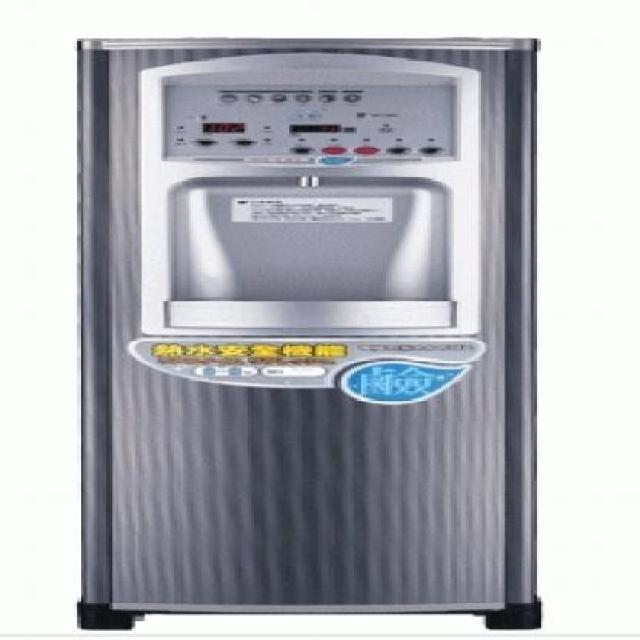cooler: (63, 34, 552, 633)
